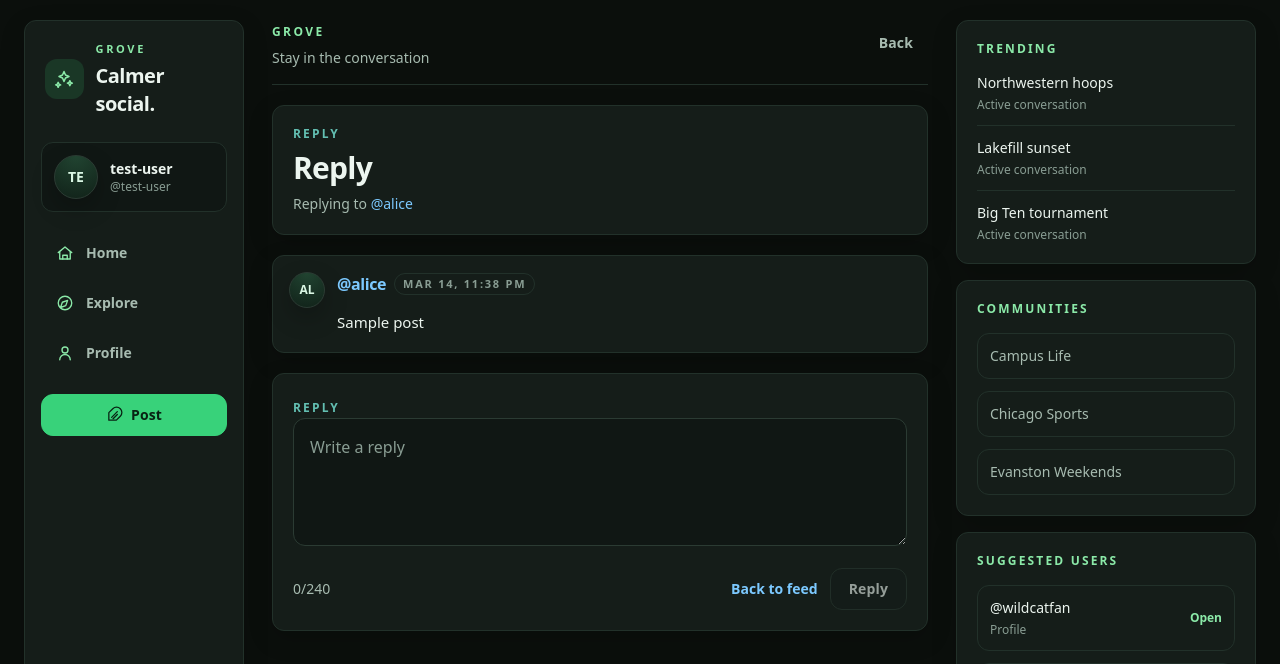
Test: PostReplyPage › saves reply and navigates to replies page
Type "this is my reply" into the text box labelled "Reply".
click(600, 482); type("this is my reply")  # box [293,418,907,546]
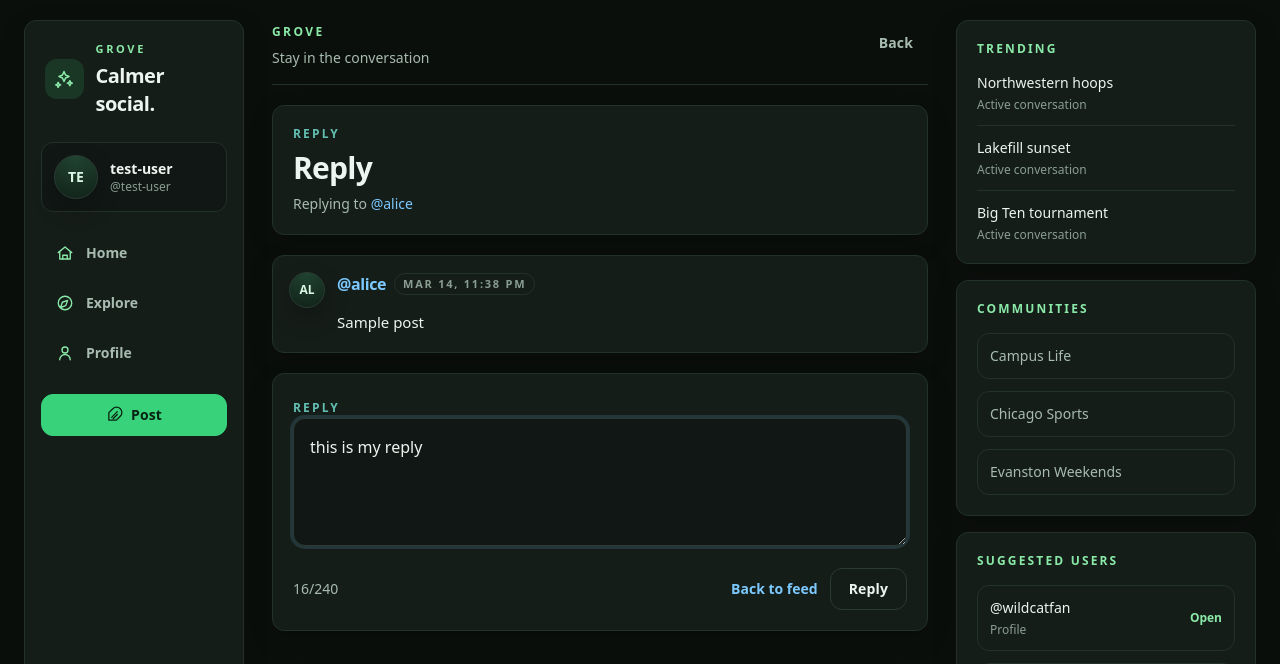
Click the button "Reply".
click(868, 589)  # box [830,568,907,610]
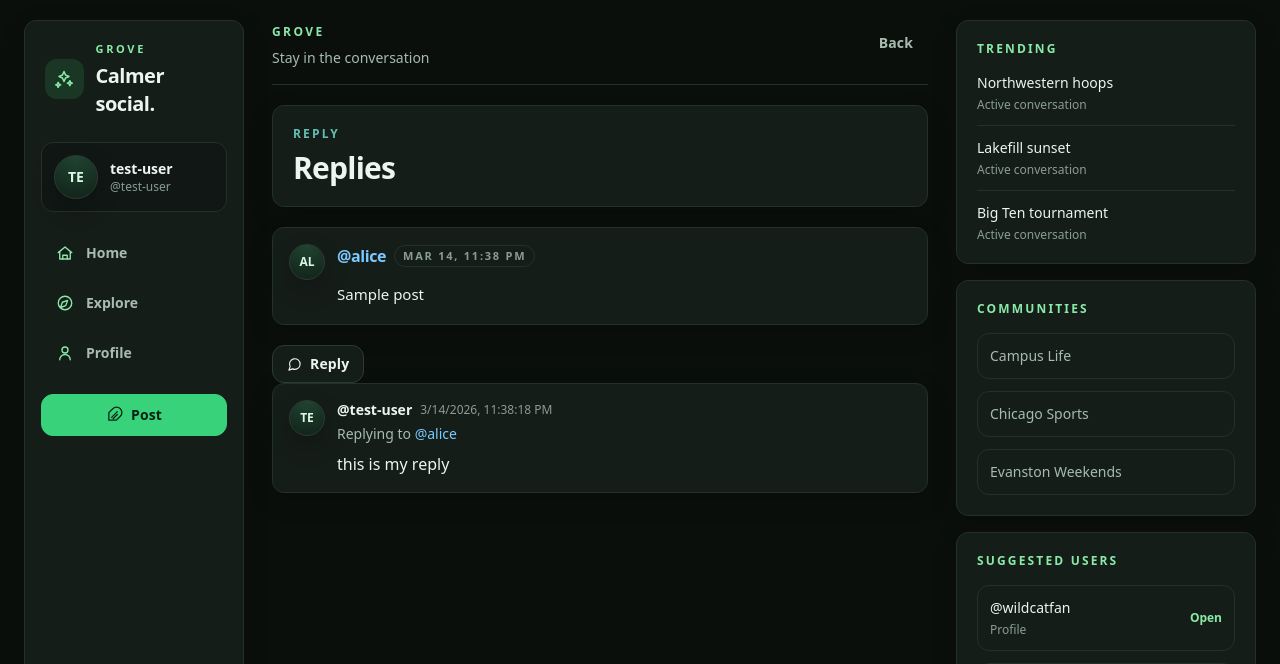
Expected: the heading "Replies" is shown, [293,147,395,188]
Expected: the text "this is my reply" is shown, [337,453,449,475]
